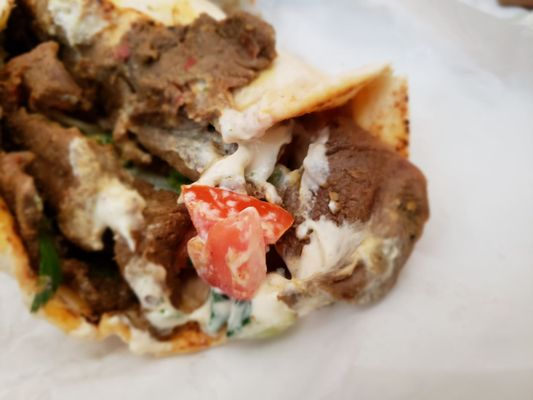soup: (0, 0, 429, 355)
